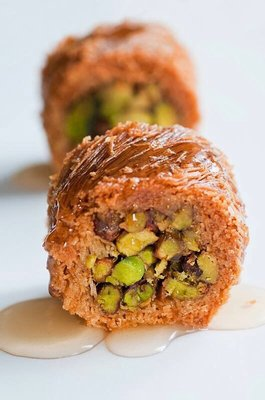soup: (41, 121, 250, 332)
